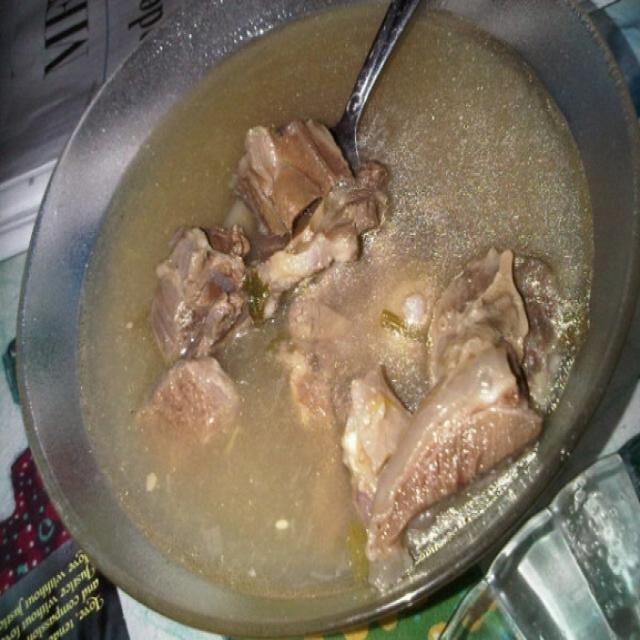汤锅炖物: (41, 21, 626, 594)
